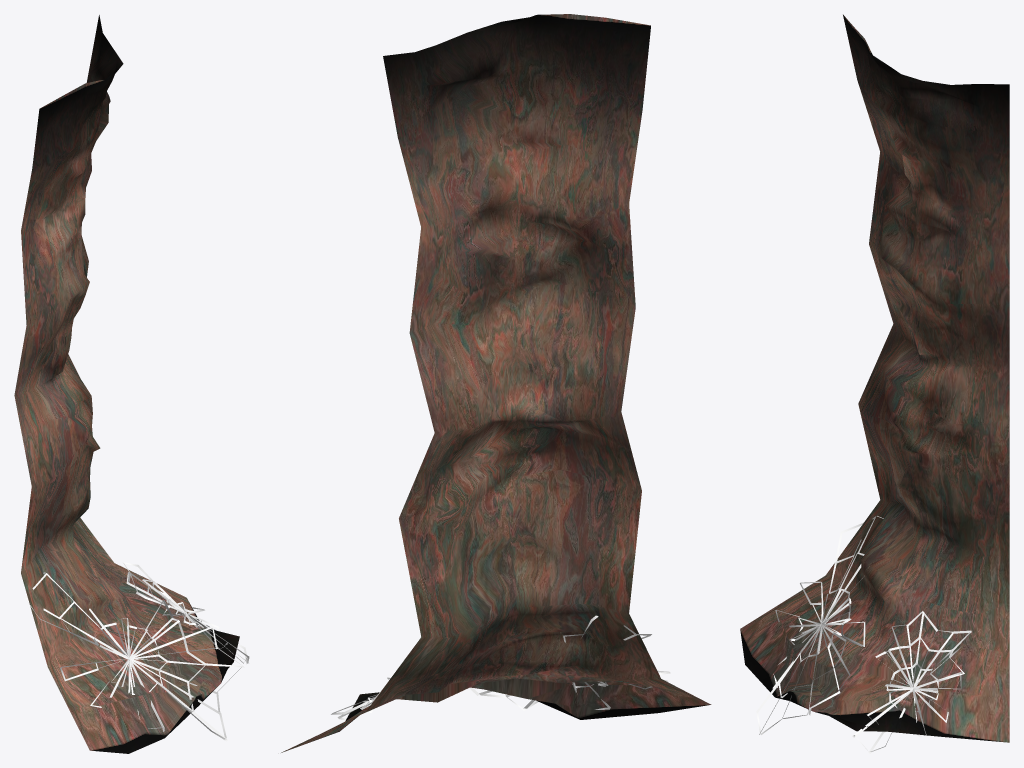
File: cave_walls_convex_web.glb
3 views of the same model, side by side, from view 1: azimuth 30°, elevation 25°; view 2: azimuth 150°, elevation 25°; view 3: azimuth 270°, elevation 25° (orthographic). The views are drawn at different scales.
Visible parts, largest first — view 1: cave_convex_web-col; view 2: cave_convex_web-col; view 3: cave_convex_web-col.
Part boxes in pixels (box(x1,y1,x2,y2)): cave_convex_web-col: box(14, 15, 249, 753); cave_convex_web-col: box(281, 14, 711, 752); cave_convex_web-col: box(740, 14, 1009, 753).
Size of the model in its own units: 1.62 by 4.28 by 1.6.
2 materials, 1 textured.
